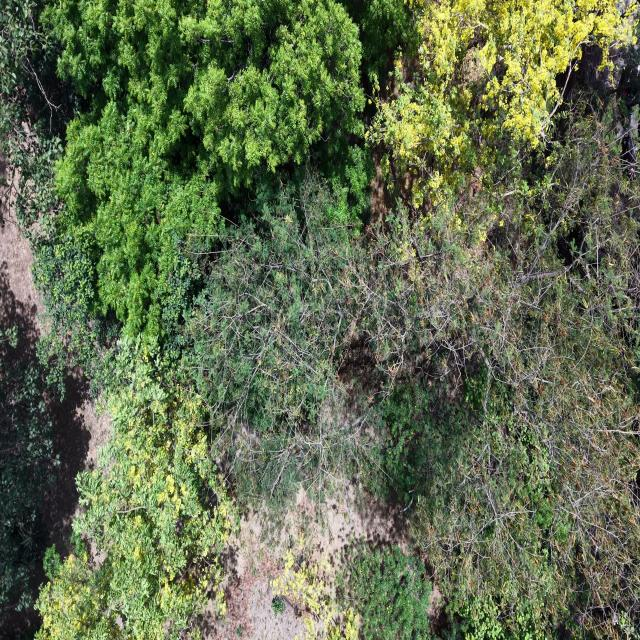DRY_AREA: (201, 482, 416, 639), (200, 484, 413, 639), (200, 485, 414, 639), (200, 485, 412, 639), (200, 485, 411, 639), (199, 511, 303, 639), (40, 368, 109, 554), (40, 369, 109, 552), (42, 368, 109, 548), (198, 559, 304, 639), (200, 573, 305, 639), (0, 202, 43, 358), (0, 200, 42, 356), (0, 203, 40, 357), (248, 580, 305, 639)
VEGETATION_TREE: (0, 0, 639, 639), (318, 2, 637, 633), (374, 2, 638, 633), (36, 1, 371, 443), (0, 2, 231, 636), (377, 99, 639, 625), (45, 0, 363, 335), (187, 170, 363, 524), (37, 340, 234, 639), (373, 0, 635, 203), (0, 0, 119, 384), (339, 542, 557, 639), (0, 0, 75, 236), (0, 325, 59, 609), (0, 327, 59, 608), (343, 543, 432, 639), (271, 548, 357, 639), (438, 598, 585, 639), (271, 595, 285, 616)
